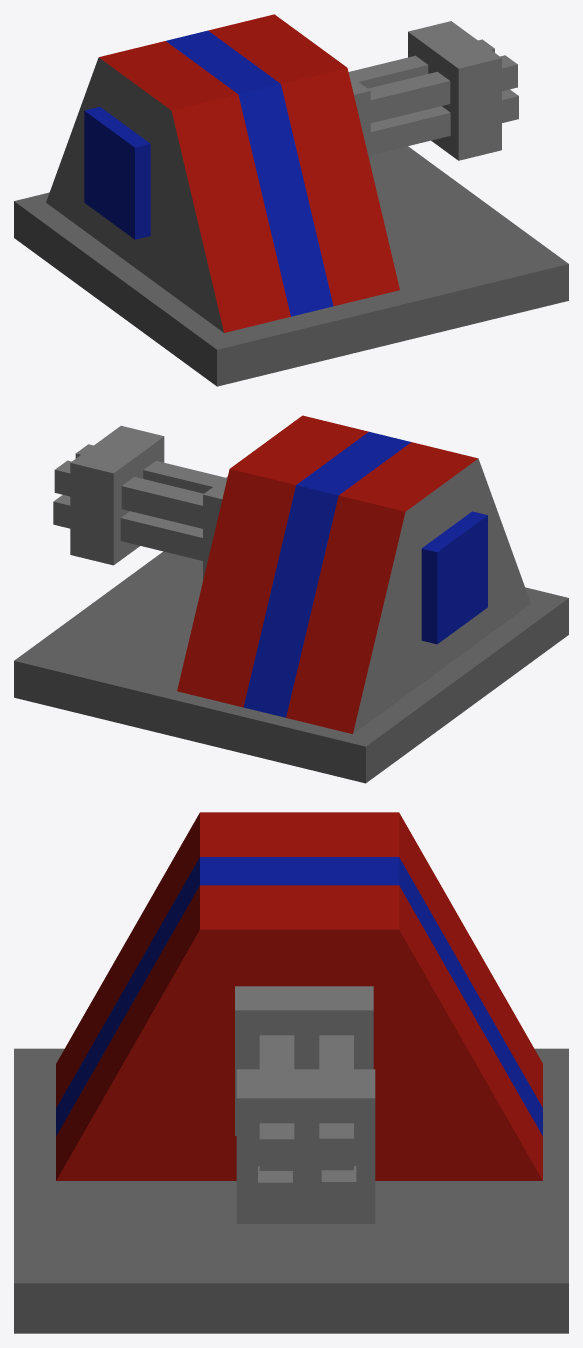
File: cannon.obj
3 views of the same model, one above another, from view 1: azimuth 30°, elevation 25°; view 2: azimuth 150°, elevation 25°; view 3: azimuth 270°, elevation 25° (orthographic). The views are drawn at different scales.
Visible parts, largest first — view 1: Cube; view 2: Cube; view 3: Cube.
Boxes of the visible parts, x1,y1,x2,y2 form: Cube: (14,14,568,386); Cube: (14,415,568,783); Cube: (14,812,568,1333).
Size of the model in its own units: 0.802 by 0.4316 by 0.72.
